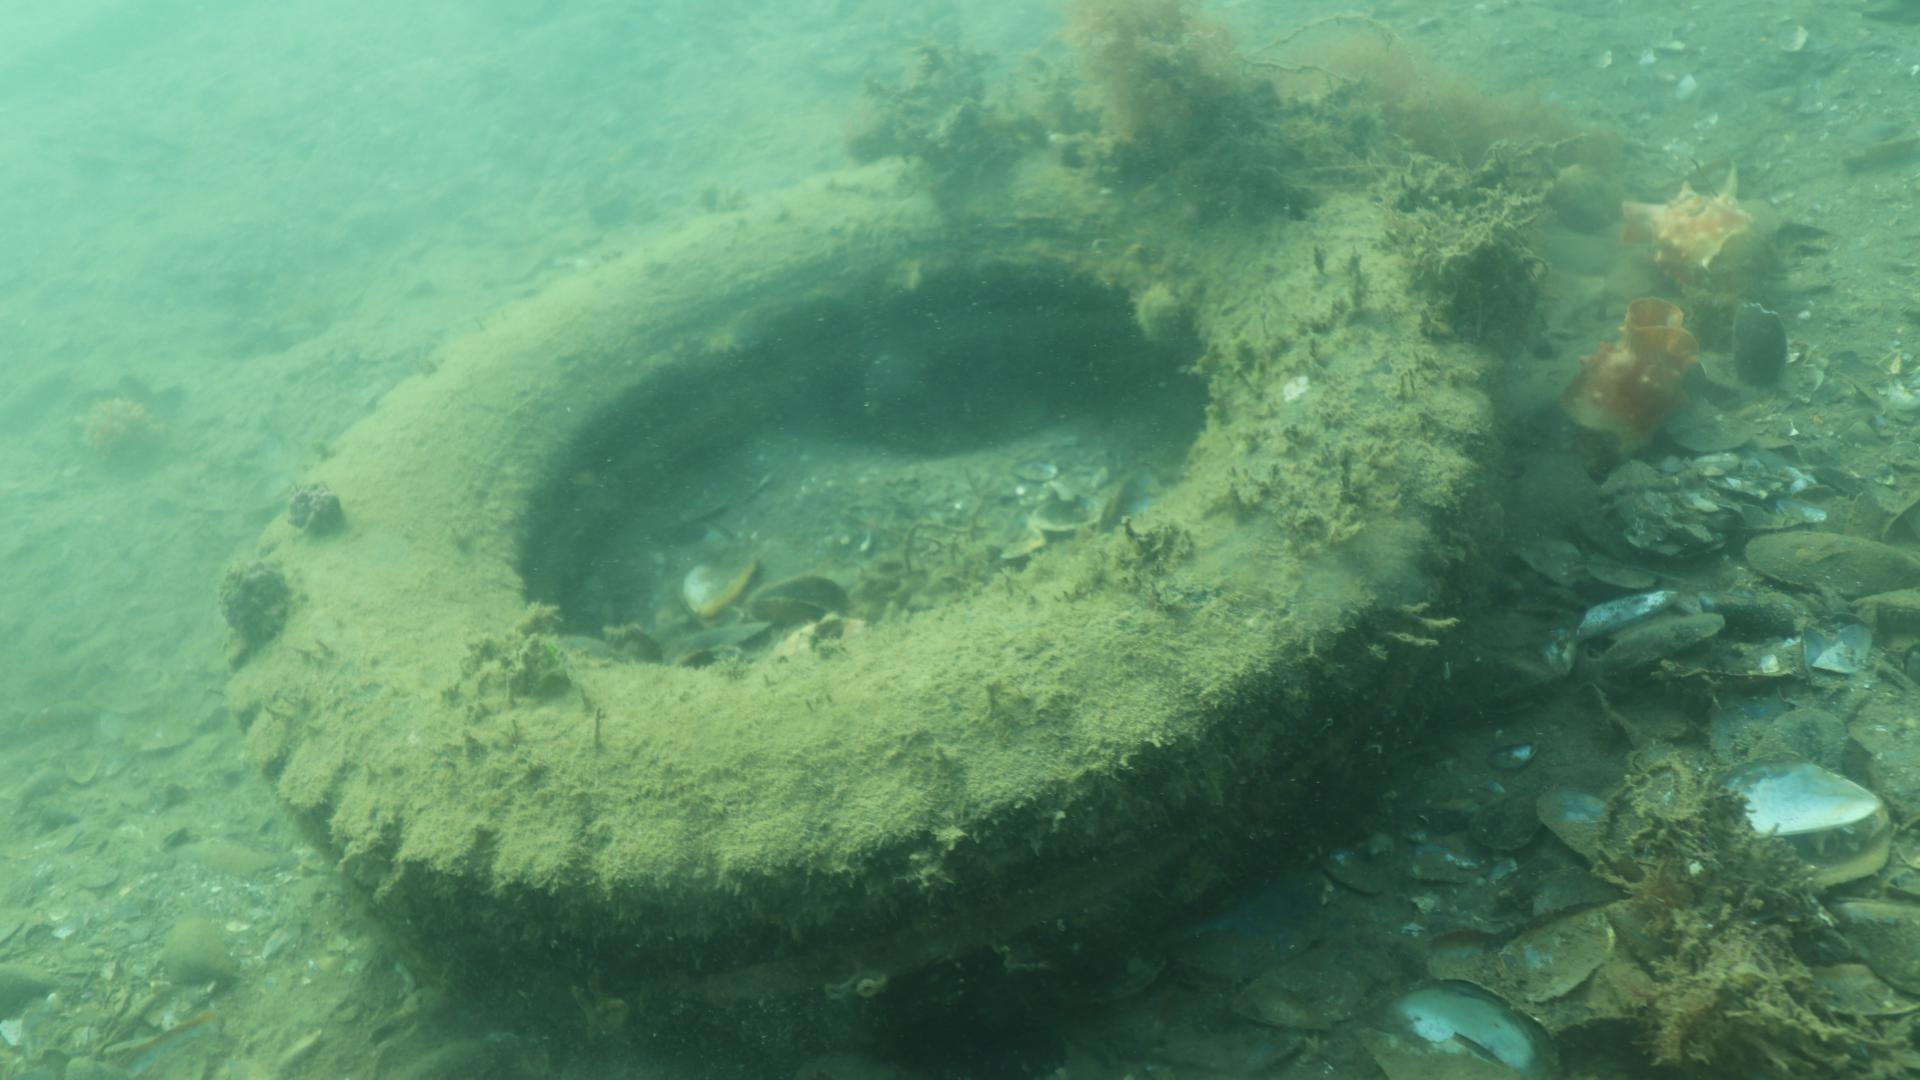tire: (227, 142, 1502, 1071)
